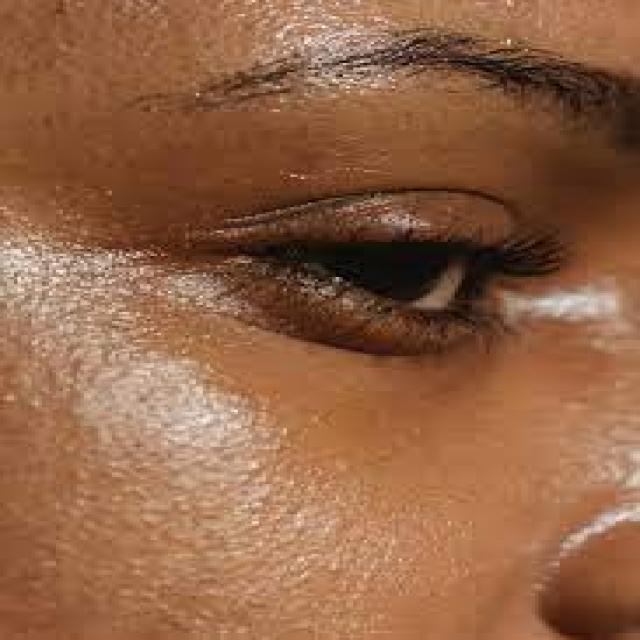Oily-Skin: (35, 322, 286, 578), (520, 274, 622, 330)
